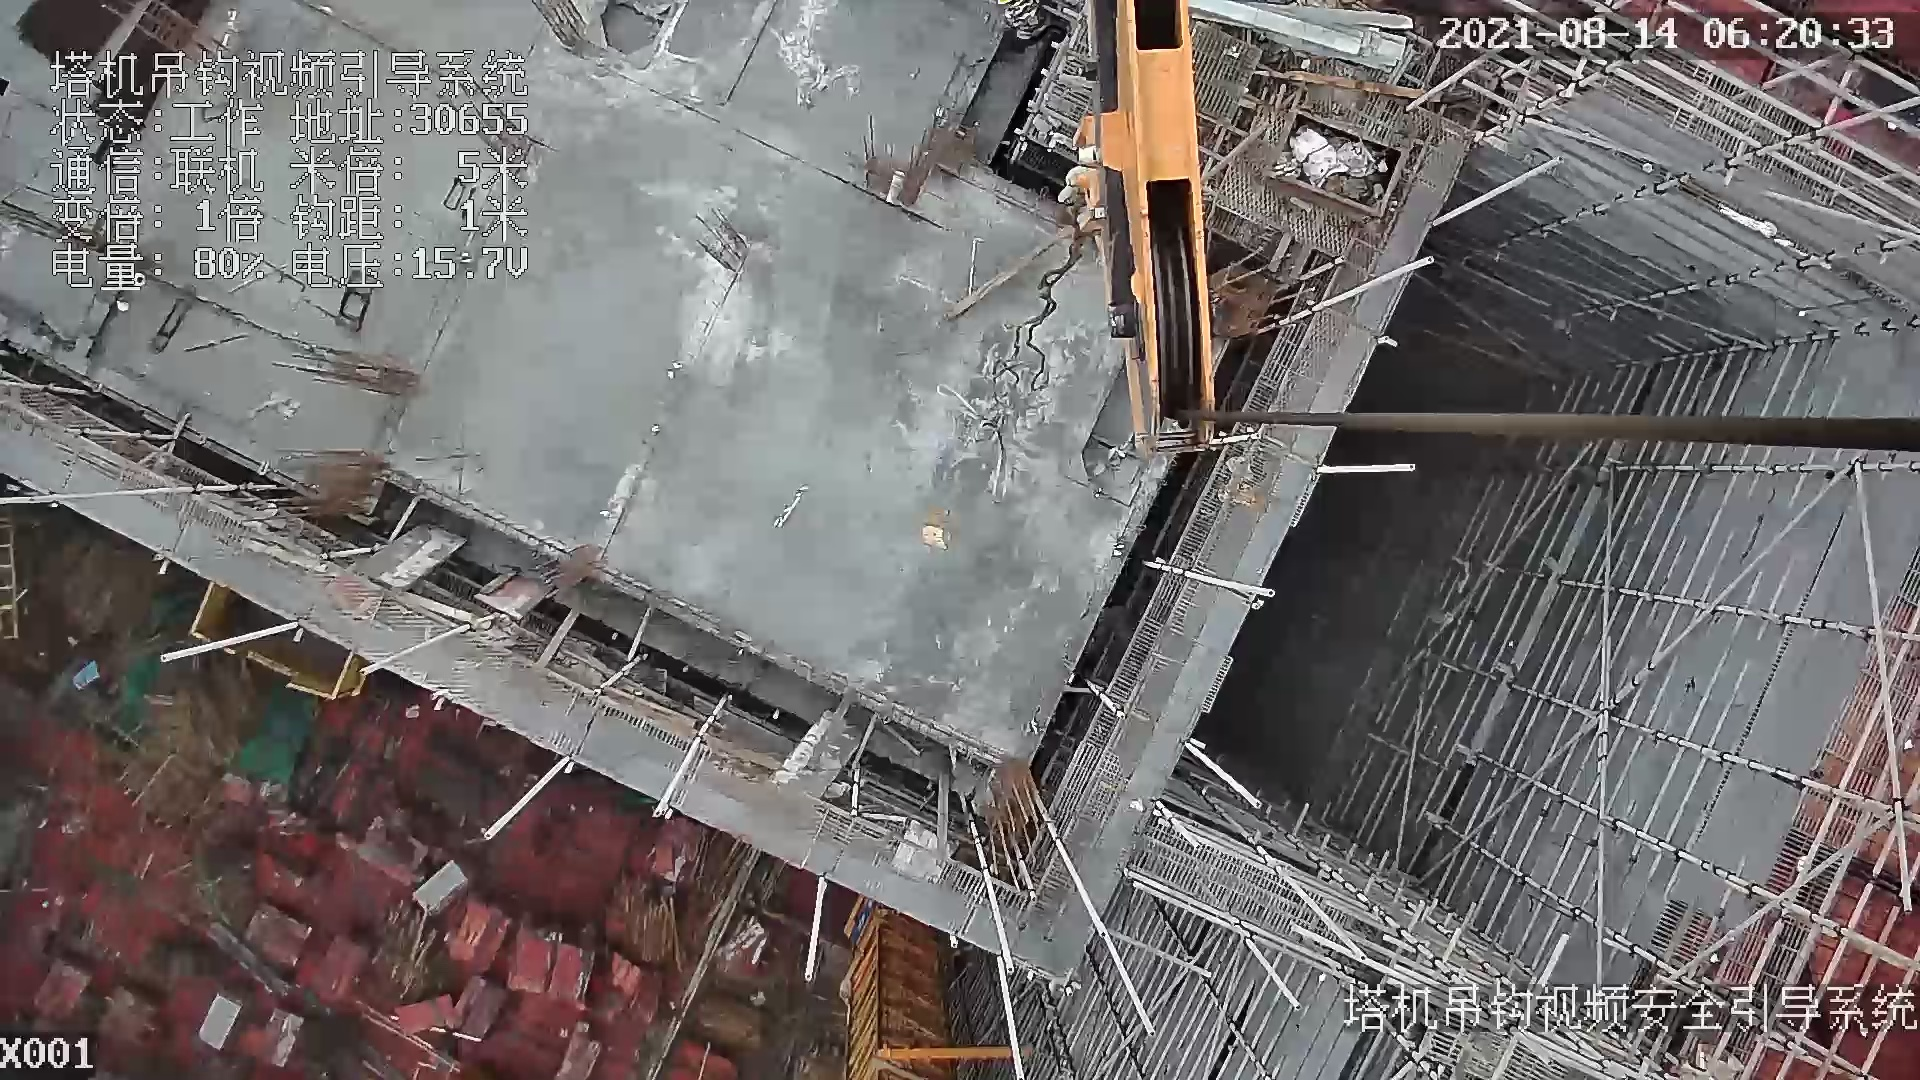hook: (1059, 1, 1215, 454)
